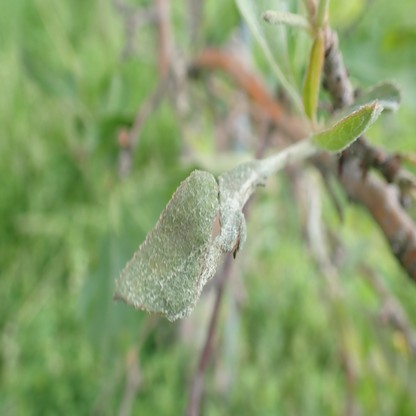powder: (115, 162, 263, 323), (307, 81, 404, 155)
